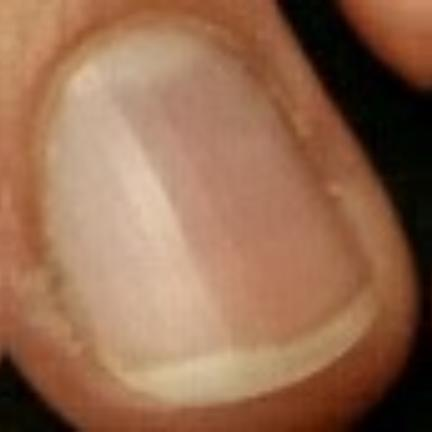Nail: (39, 20, 381, 407)
